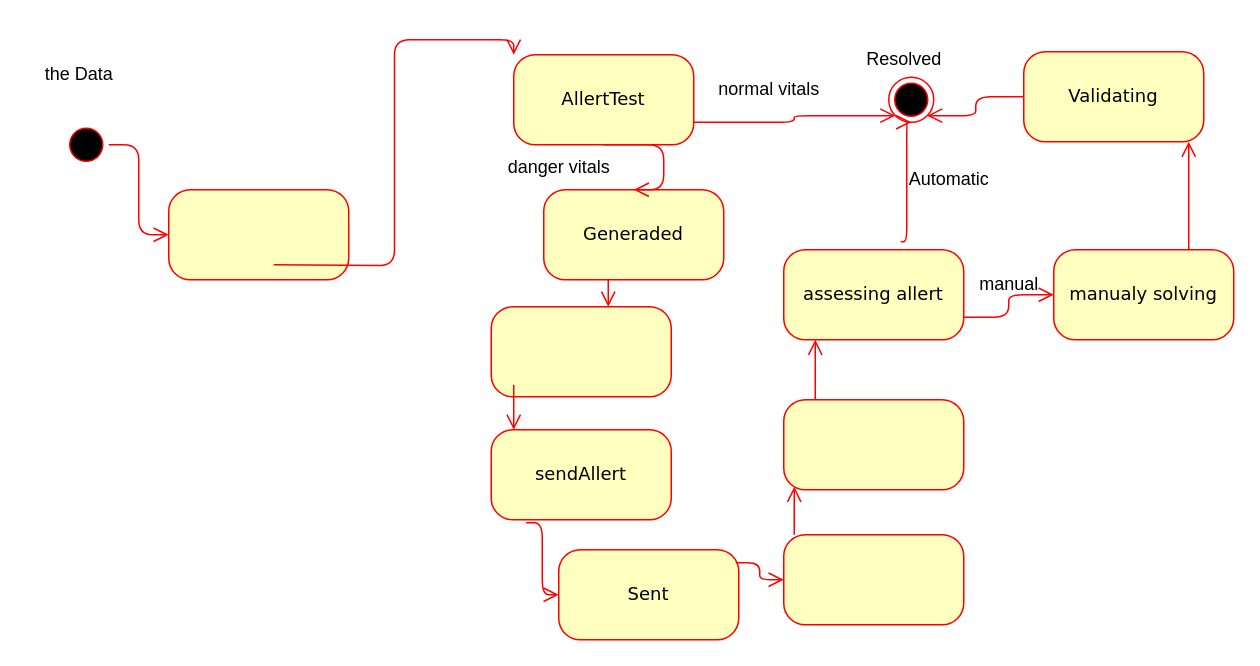
This 1260x666 diagram has some shape labels left out. Each missing label, with the centre of its shape:
"Acknowledged" goes at (x=873, y=444).
"Activity" goes at (x=873, y=579).
"CreatedAllert msg" goes at (x=580, y=351).
"Savethedata" goes at (x=258, y=234).
